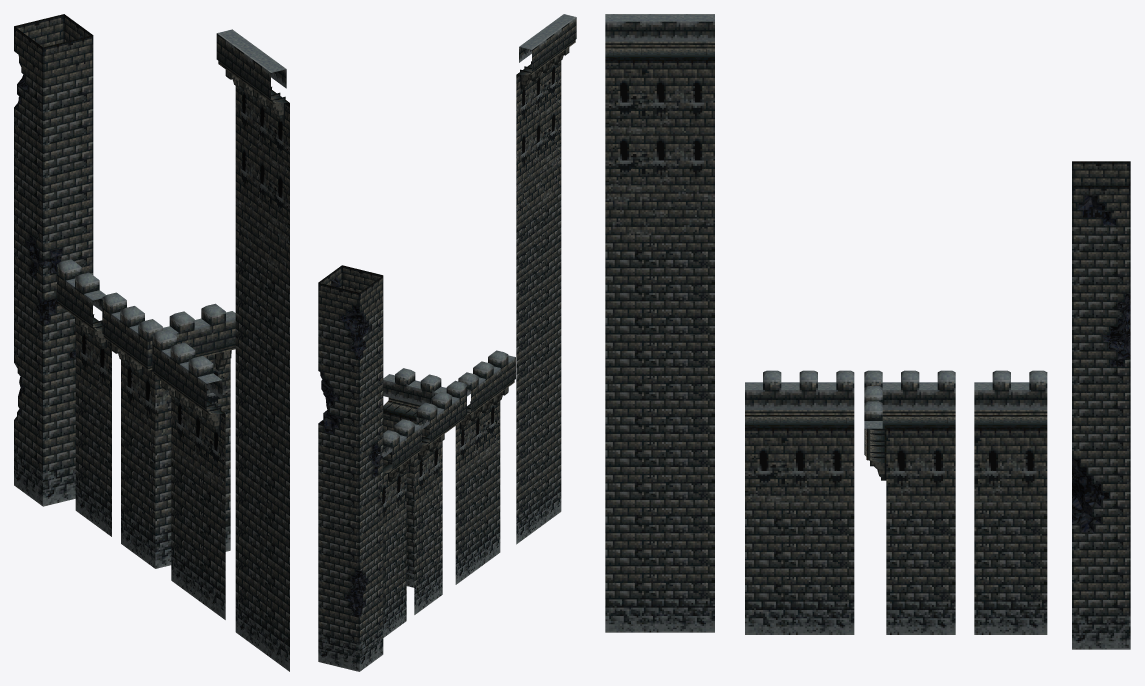
File: EnvMdrMD_SnowWall_A_Pillar_A.FBX
The picture shows the model from 3 angles, left to right: view 1: azimuth 30°, elevation 25°; view 2: azimuth 150°, elevation 25°; view 3: azimuth 270°, elevation 25°; orthographic projection. The views are drawn at different scales.
Parts seen in each view (by area): view 1: EnvMdrMD_SnowWall_A_Wall_A, EnvMdrMD_SnowWall_A_Pillar_A, EnvMdrMD_SnowWall_A_WallDeco_Corner_A, EnvMdrMD_SnowWall_A_WallDeco_Loop_300W, EnvMdrMD_SnowWall_A_WallDeco_Loop_200W_L; view 2: EnvMdrMD_SnowWall_A_Pillar_A, EnvMdrMD_SnowWall_A_Wall_A, EnvMdrMD_SnowWall_A_WallDeco_Corner_A, EnvMdrMD_SnowWall_A_WallDeco_Loop_300W, EnvMdrMD_SnowWall_A_WallDeco_Loop_200W_L; view 3: EnvMdrMD_SnowWall_A_Wall_A, EnvMdrMD_SnowWall_A_Pillar_A, EnvMdrMD_SnowWall_A_WallDeco_Loop_300W, EnvMdrMD_SnowWall_A_WallDeco_Corner_A, EnvMdrMD_SnowWall_A_WallDeco_Loop_200W_L.
Boxes of the visible parts, x1,y1,x2,y2 form: EnvMdrMD_SnowWall_A_Wall_A: [216, 29, 289, 671]; EnvMdrMD_SnowWall_A_Pillar_A: [14, 14, 93, 506]; EnvMdrMD_SnowWall_A_WallDeco_Corner_A: [102, 292, 235, 568]; EnvMdrMD_SnowWall_A_WallDeco_Loop_300W: [152, 329, 225, 619]; EnvMdrMD_SnowWall_A_WallDeco_Loop_200W_L: [57, 259, 111, 536]; EnvMdrMD_SnowWall_A_Pillar_A: [318, 265, 383, 671]; EnvMdrMD_SnowWall_A_Wall_A: [516, 14, 576, 544]; EnvMdrMD_SnowWall_A_WallDeco_Corner_A: [383, 368, 466, 614]; EnvMdrMD_SnowWall_A_WallDeco_Loop_300W: [455, 350, 515, 584]; EnvMdrMD_SnowWall_A_WallDeco_Loop_200W_L: [379, 419, 421, 637]; EnvMdrMD_SnowWall_A_Wall_A: [605, 14, 714, 632]; EnvMdrMD_SnowWall_A_Pillar_A: [1072, 161, 1130, 649]; EnvMdrMD_SnowWall_A_WallDeco_Loop_300W: [745, 370, 854, 634]; EnvMdrMD_SnowWall_A_WallDeco_Corner_A: [864, 370, 955, 634]; EnvMdrMD_SnowWall_A_WallDeco_Loop_200W_L: [974, 370, 1047, 634].
Bounding box in the file's own units: 315 × 1840 × 1437.
1 material, 1 textured.
